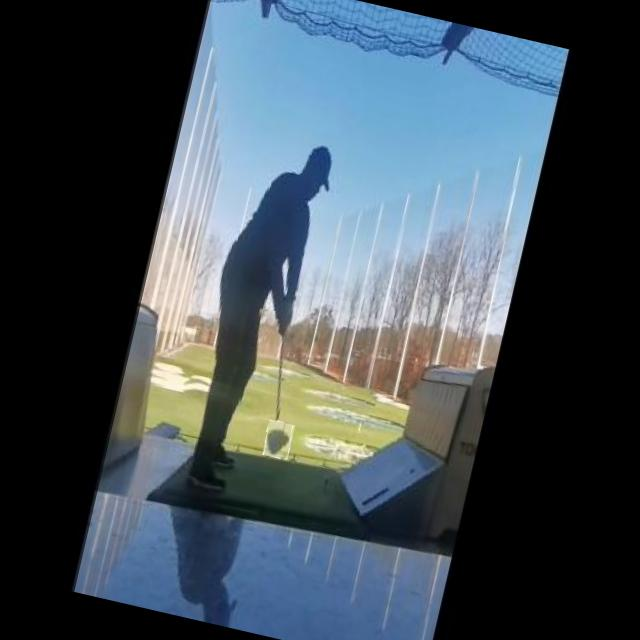club head: (262, 419, 294, 460)
